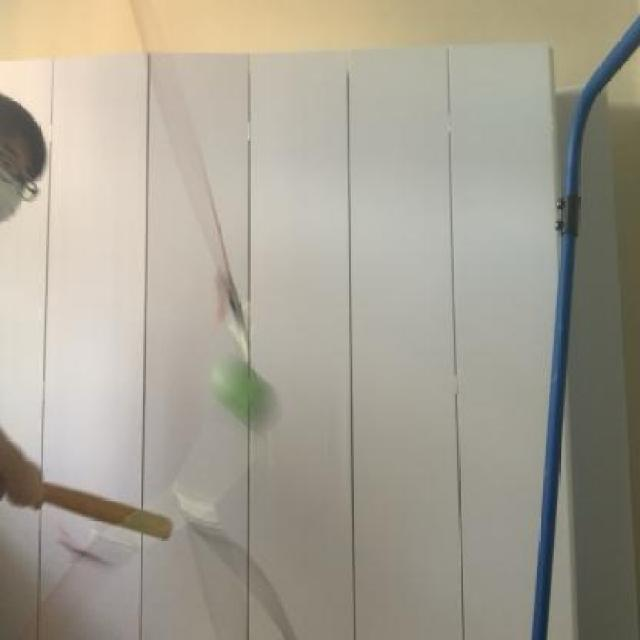baseball: (205, 354, 282, 434)
